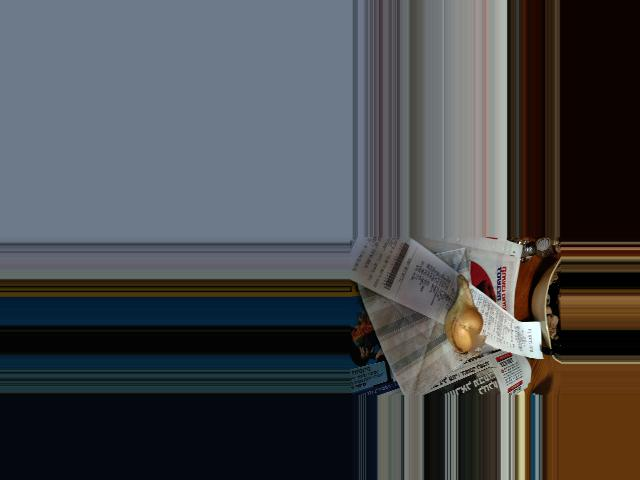onion: (446, 289, 484, 355)
